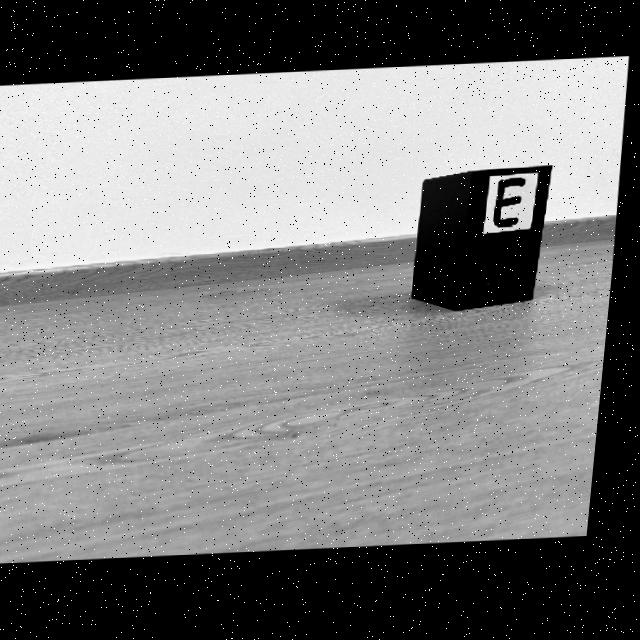E: (498, 181, 530, 229)
